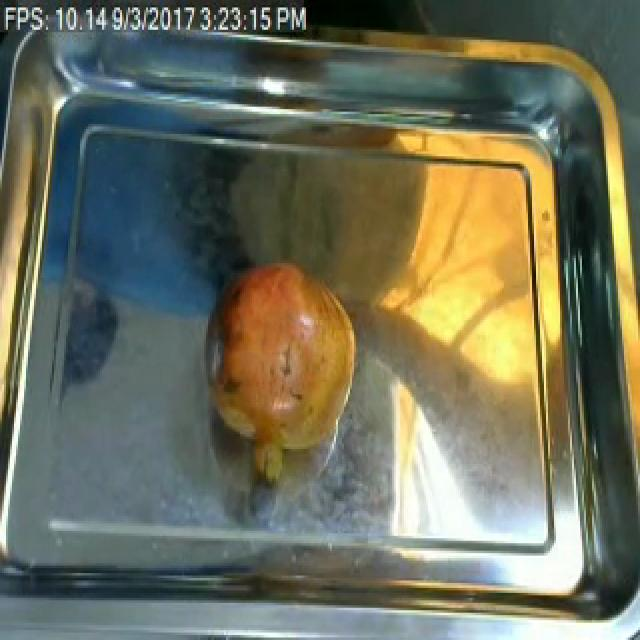fruit: (192, 246, 372, 498)
